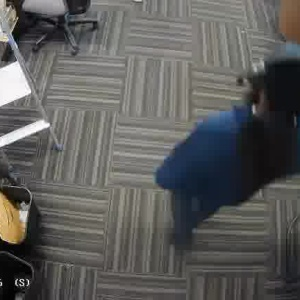person: (165, 37, 296, 228)
